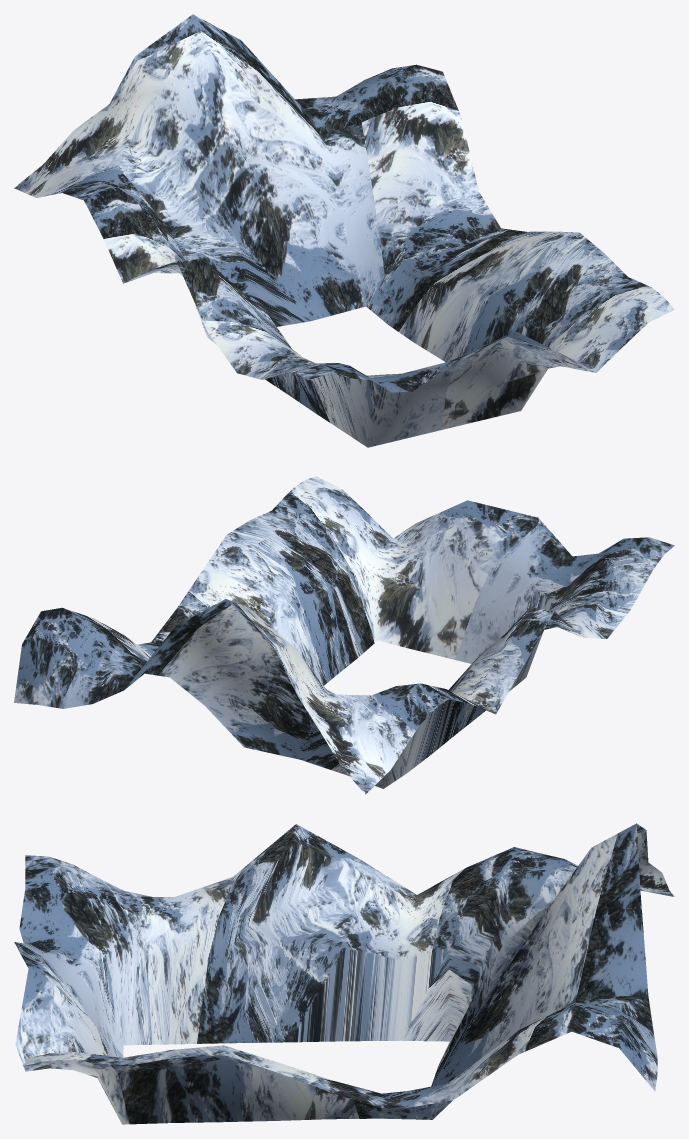
The model's file is MountainProjection.fbx.
3 views of the same model, one above another, from view 1: azimuth 30°, elevation 25°; view 2: azimuth 150°, elevation 25°; view 3: azimuth 270°, elevation 25° (orthographic). The views are drawn at different scales.
Visible parts, largest first — view 1: MountainProjection; view 2: MountainProjection; view 3: MountainProjection.
Boxes of the visible parts, x1,y1,x2,y2 form: MountainProjection: [14, 14, 674, 447]; MountainProjection: [14, 476, 674, 794]; MountainProjection: [14, 823, 674, 1124].
Size of the model in its own units: 18230 by 10603 by 24775.
